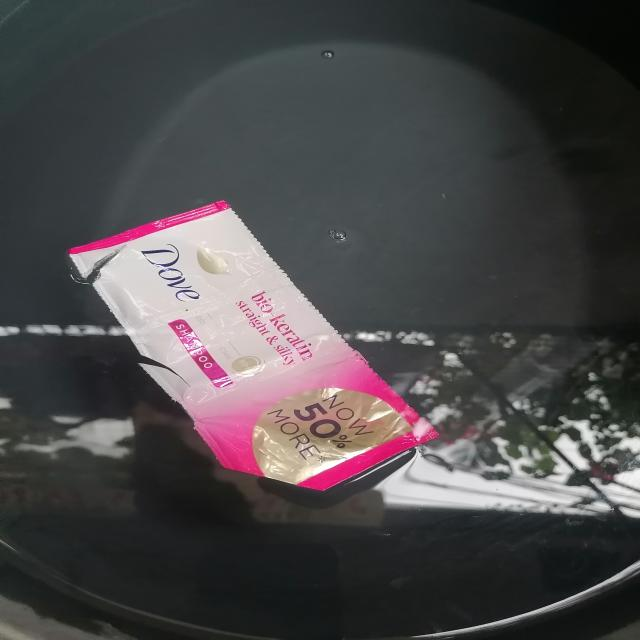Plastic Wrapper: (68, 201, 437, 504)
